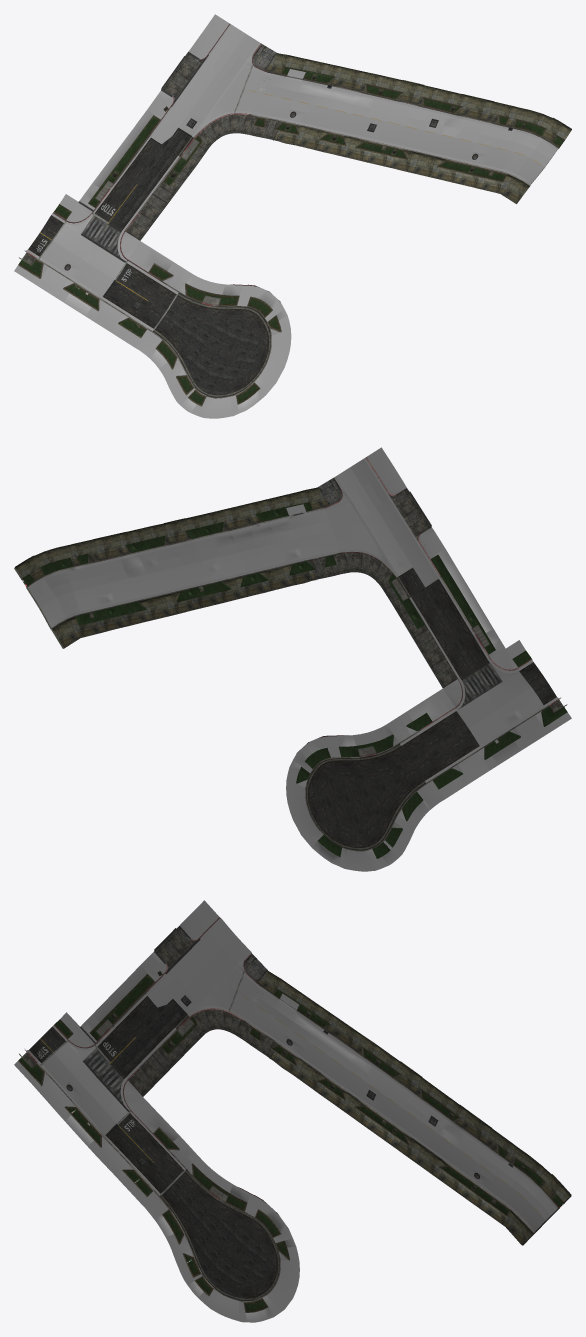
3 views of the same model, one above another, from view 1: azimuth 30°, elevation 25°; view 2: azimuth 150°, elevation 25°; view 3: azimuth 330°, elevation 25° (orthographic).
Visible parts, largest first — view 1: sc1_rd_r3_03; view 2: sc1_rd_r3_03; view 3: sc1_rd_r3_03.
Boxes of the visible parts, x1,y1,x2,y2 form: sc1_rd_r3_03: [14, 14, 571, 418]; sc1_rd_r3_03: [14, 447, 571, 871]; sc1_rd_r3_03: [14, 900, 571, 1322].
Bounding box in the file's own units: 16471 × 11803 × 483.
